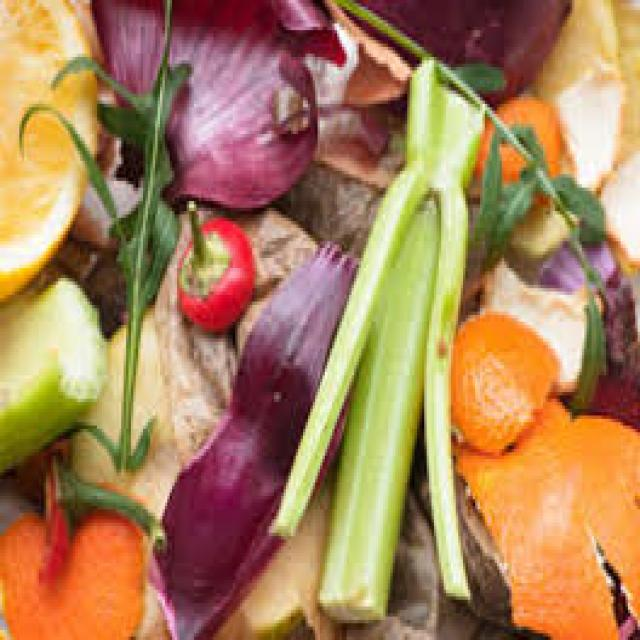organic waste: (0, 0, 638, 637), (267, 50, 470, 620), (143, 234, 359, 636), (12, 198, 233, 529), (87, 0, 344, 204), (446, 392, 638, 637), (451, 392, 637, 637), (0, 0, 99, 295), (320, 0, 567, 104), (12, 94, 129, 312), (506, 60, 626, 258), (0, 268, 107, 476), (216, 469, 344, 637), (0, 502, 138, 636), (417, 449, 507, 637), (337, 476, 439, 636), (448, 305, 548, 456), (478, 258, 598, 379), (46, 449, 165, 546), (143, 0, 189, 221), (303, 10, 407, 104), (475, 90, 560, 204), (179, 191, 250, 325), (580, 252, 638, 416), (308, 101, 412, 191), (281, 164, 383, 251), (242, 201, 328, 292), (48, 47, 146, 114), (596, 137, 638, 275), (485, 168, 536, 268), (68, 174, 140, 241), (538, 225, 614, 288), (134, 542, 184, 636), (565, 285, 601, 412), (141, 181, 172, 328), (36, 452, 68, 580), (546, 168, 606, 235), (468, 127, 502, 245), (266, 57, 312, 137), (337, 97, 393, 151), (94, 97, 150, 151), (441, 60, 512, 94), (502, 114, 543, 167), (80, 419, 114, 472), (129, 406, 155, 462)
